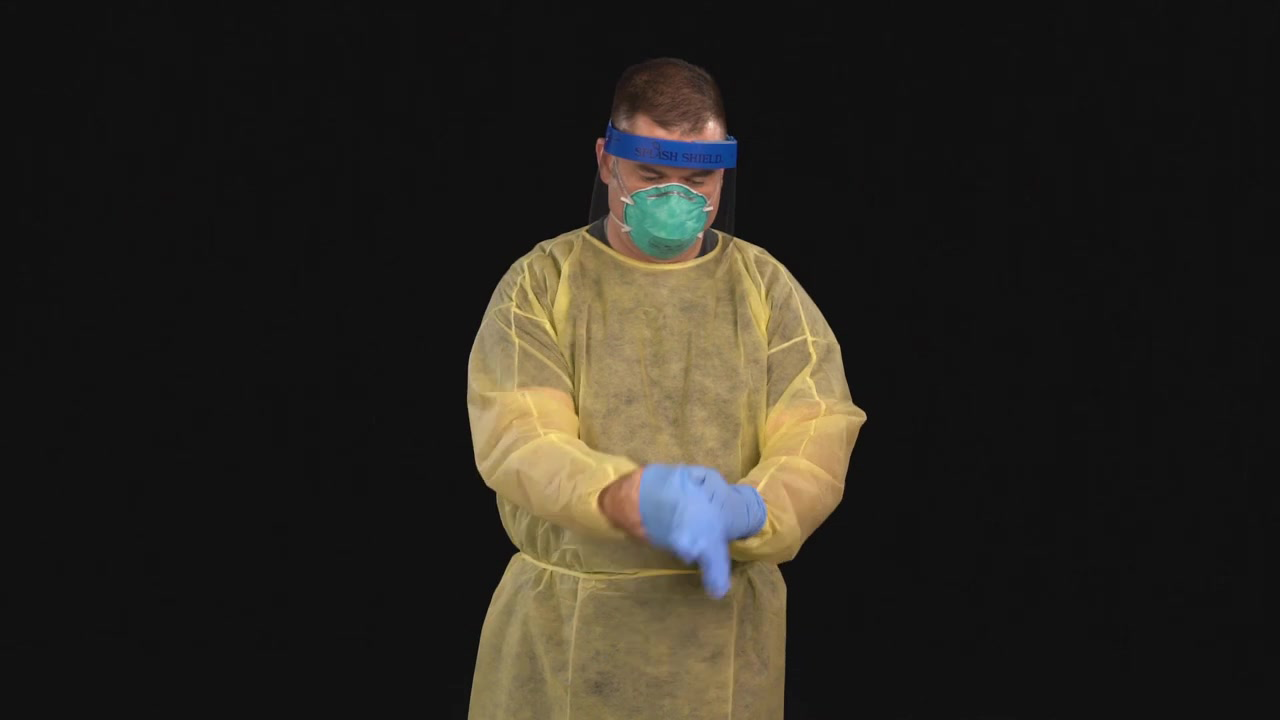Coverall: (471, 226, 833, 720)
Face_Shield: (593, 122, 742, 262)
Gloves: (637, 461, 762, 599)
with_mask: (626, 160, 715, 252)
